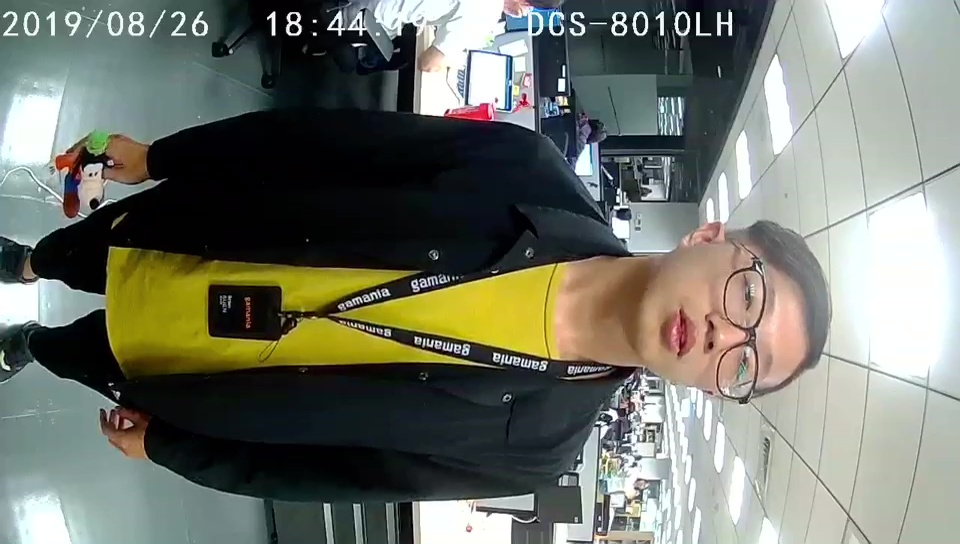goofy: (41, 129, 112, 219)
